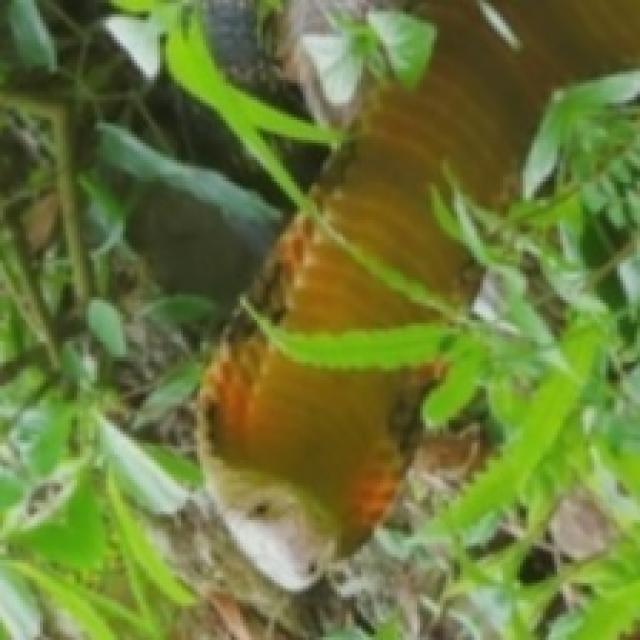king cobra: (314, 0, 637, 300), (200, 317, 431, 586), (251, 217, 434, 331)
